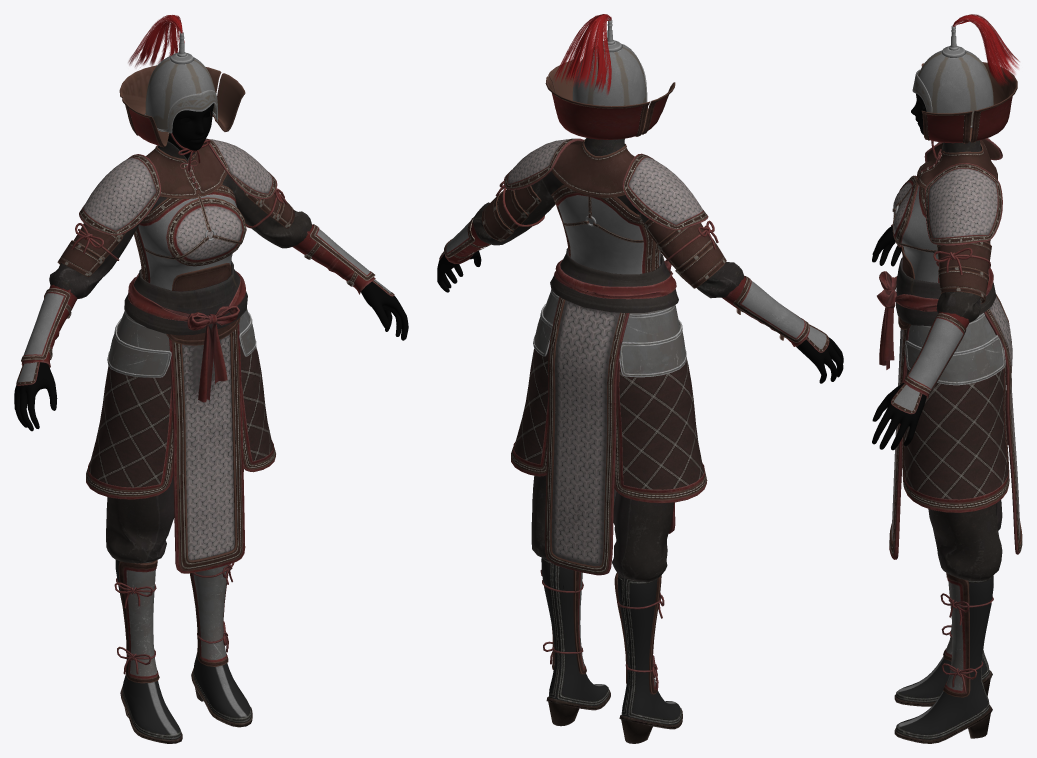
File: procedural_armor_2.0_test_6.glb
3 renders of one model, left to right at view 1: azimuth 30°, elevation 25°; view 2: azimuth 150°, elevation 25°; view 3: azimuth 270°, elevation 25°, orthographic. The views are drawn at different scales.
Visible parts, largest first — view 1: frskirt_low, Side_skirt1_low, helmet_low, Shoulder3_low, leg_low, shoes_low, body_low, pants_low, chest_low, beltwrap_low, shirt_low, Side_skirt3_low (+9 smaller); view 2: bkskirt_low, Side_skirt1_low, shoes_low, helmet_low, Body_piece_low, Shoulder3_low, pants_low, Shoulder4_low, Side_skirt3_low, beltwrap_low, Neck_low, shirt_low (+7 smaller); view 3: Side_skirt1_low, helmet_low, shoes_low, Shoulder3_low, pants_low, Side_skirt3_low, body_low, Arm_low, Shoulder4_low, leg_low, bkskirt_low, belt_low (+11 smaller).
Part boxes in pixels (x1,y1,x2,y2): frskirt_low: (169,324,245,573); Side_skirt1_low: (86,343,275,499); helmet_low: (119,15,245,171); Shoulder3_low: (79,138,277,235); leg_low: (118,560,228,683); shoes_low: (115,560,252,743); body_low: (14,103,408,431); pants_low: (106,469,243,563); chest_low: (166,197,246,266); beltwrap_low: (124,260,247,335); shirt_low: (49,174,311,298); Side_skirt3_low: (107,308,256,377); bkskirt_low: (544,297,629,575); Side_skirt1_low: (511,347,707,503); shoes_low: (541,558,682,743); helmet_low: (545,14,675,139); Body_piece_low: (551,185,660,274); Shoulder3_low: (503,138,708,230); pants_low: (531,475,673,582); Shoulder4_low: (481,185,726,288); Side_skirt3_low: (533,289,686,377); beltwrap_low: (550,248,678,312); Neck_low: (551,139,634,197); shirt_low: (473,171,744,298); Side_skirt1_low: (902,365,1009,512); helmet_low: (912,14,1019,158); shoes_low: (894,575,993,743); Shoulder3_low: (924,138,1002,245); pants_low: (928,500,1002,581); Side_skirt3_low: (905,313,1005,385); body_low: (872,94,982,450); Arm_low: (904,313,966,394); Shoulder4_low: (937,240,991,303); leg_low: (943,573,970,697); bkskirt_low: (984,294,1022,554); belt_low: (877,268,993,369).
Size of the model in its own units: 1.12 by 1.91 by 0.3723.
4 materials, 4 textured.
